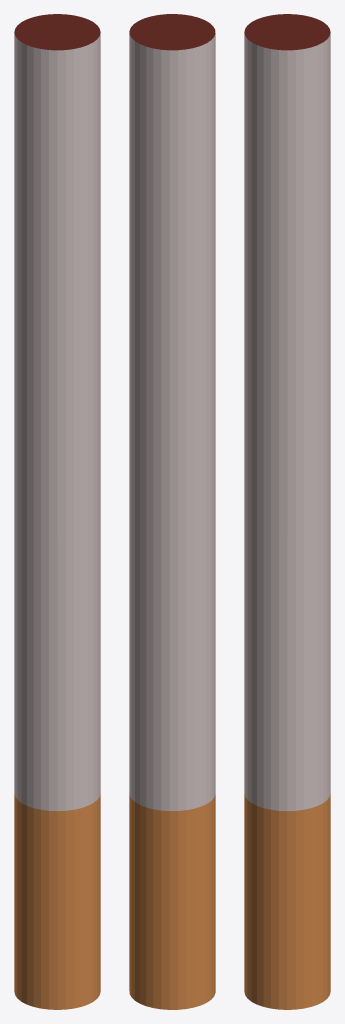
File: Cigarette.fbx
The picture shows the model from 3 angles, left to right: view 1: azimuth 90°, elevation 25°; view 2: azimuth 210°, elevation 25°; view 3: azimuth 270°, elevation 25°; orthographic projection.
Parts seen in each view (by area): view 1: Cylinder; view 2: Cylinder; view 3: Cylinder.
Boxes of the visible parts, x1,y1,x2,y2 form: Cylinder: [14, 14, 100, 1009]; Cylinder: [129, 14, 215, 1009]; Cylinder: [244, 14, 330, 1009].
Size of the model in its own units: 74.64 by 917 by 74.64.
